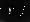person: (11, 6, 18, 17)
